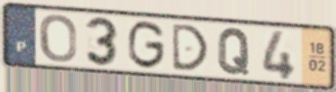3: (83, 15, 121, 69)
4: (260, 29, 298, 81)
D: (170, 22, 211, 72)
G: (126, 19, 167, 71)
O: (37, 13, 79, 64)
Q: (216, 26, 252, 76)
